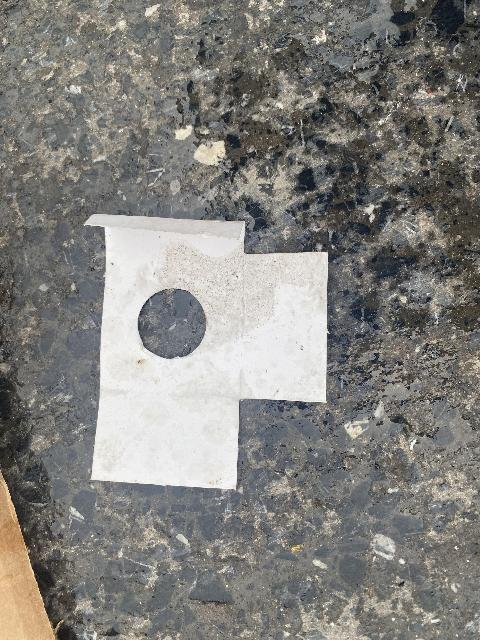Kagit: (79, 202, 341, 494)
